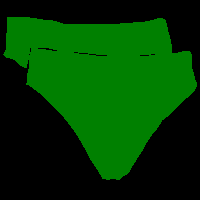mutande: (25, 48, 197, 180), (3, 17, 172, 68)
